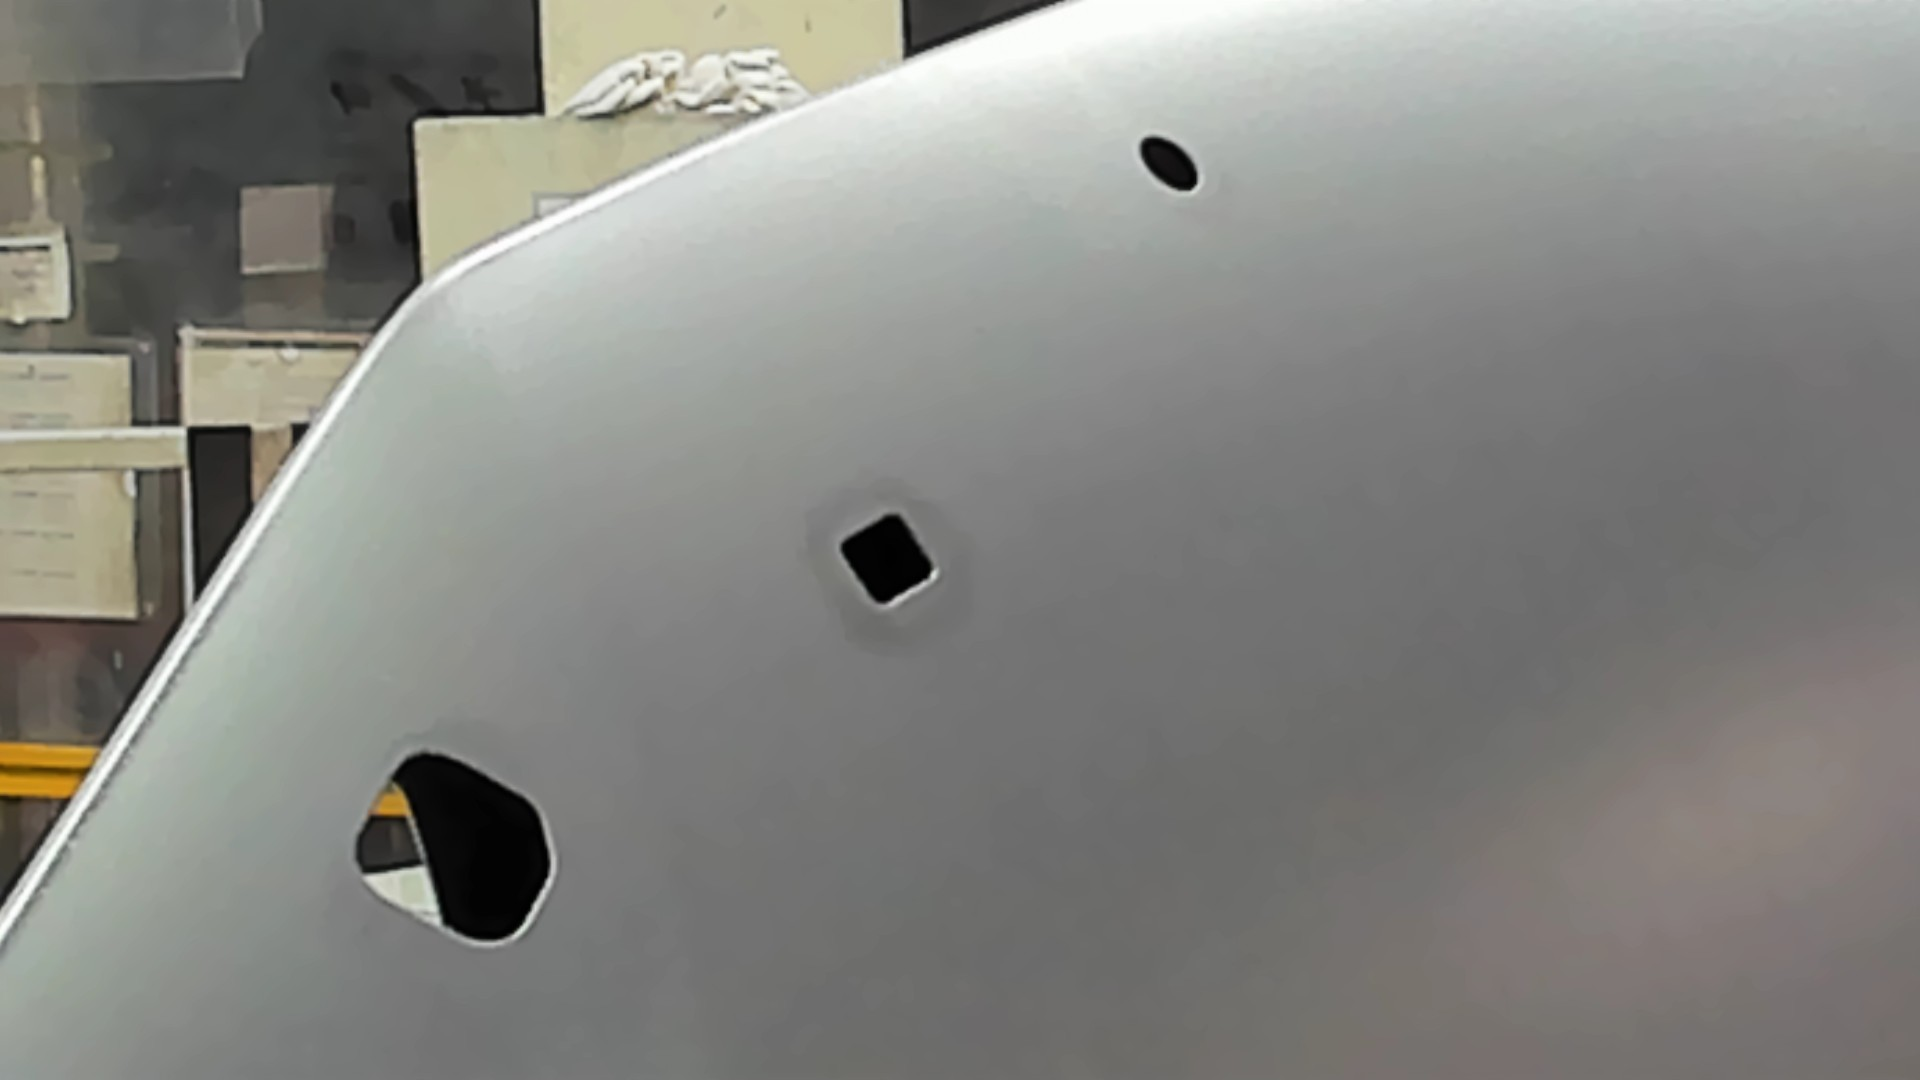capo: (945, 200, 1920, 1080)
chico: (1133, 129, 1207, 196)
grande: (343, 742, 560, 956)
mediano: (833, 506, 942, 615)
